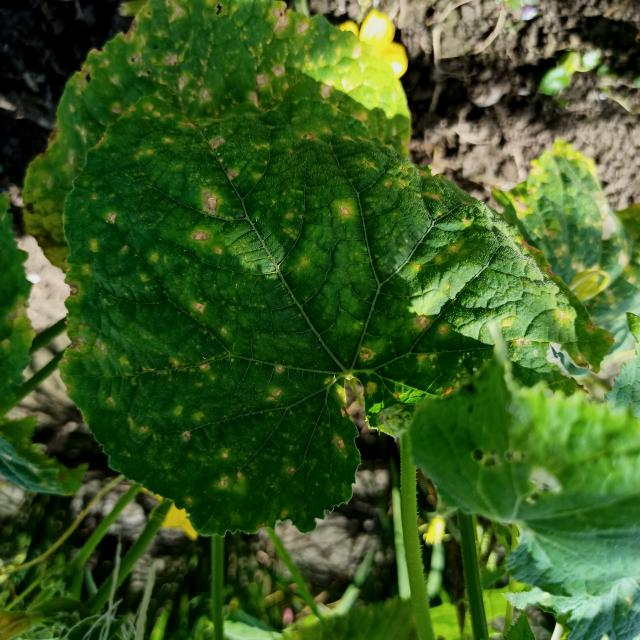disease_cucumber: (54, 0, 436, 517)
